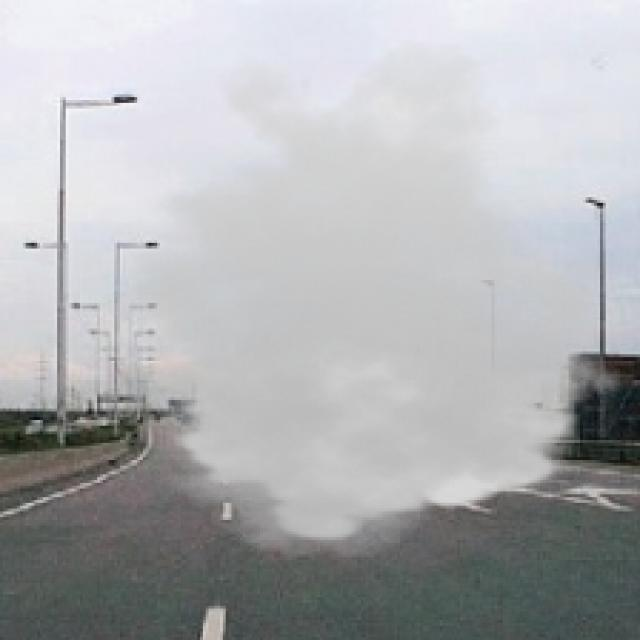smoke: (69, 37, 632, 560)
